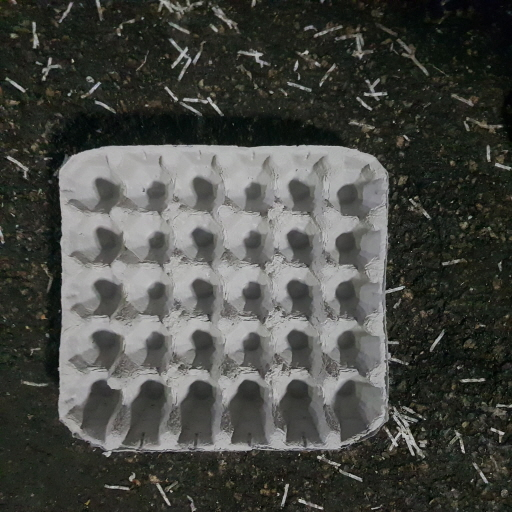Paper_0: (48, 138, 397, 456)
